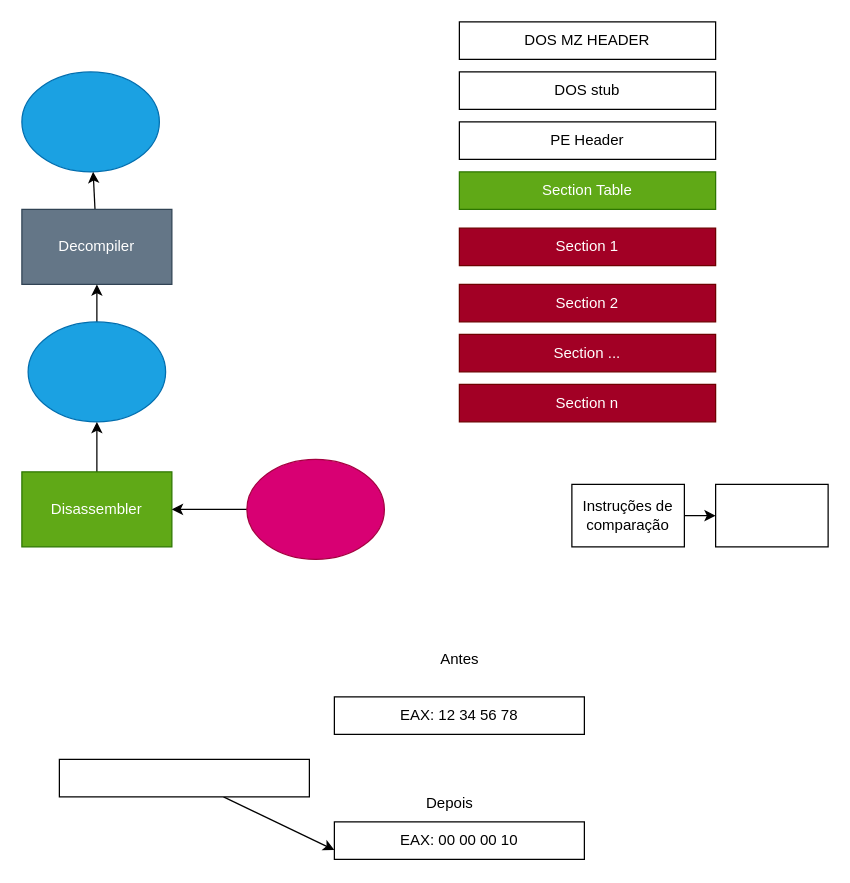
Some shapes in this 850 by 883 pixel diagram are drawn without their labels. The centre of each missing label's shape, as x and y in pixels:
"mov EAX, 10" goes at pixel 183 777.
"Programa Assembly" goes at pixel 96 371.
"Programa binario executavel" goes at pixel 315 508.
"Programa fonte" goes at pixel 90 121.
"Registrador de flags" goes at pixel 771 515.
